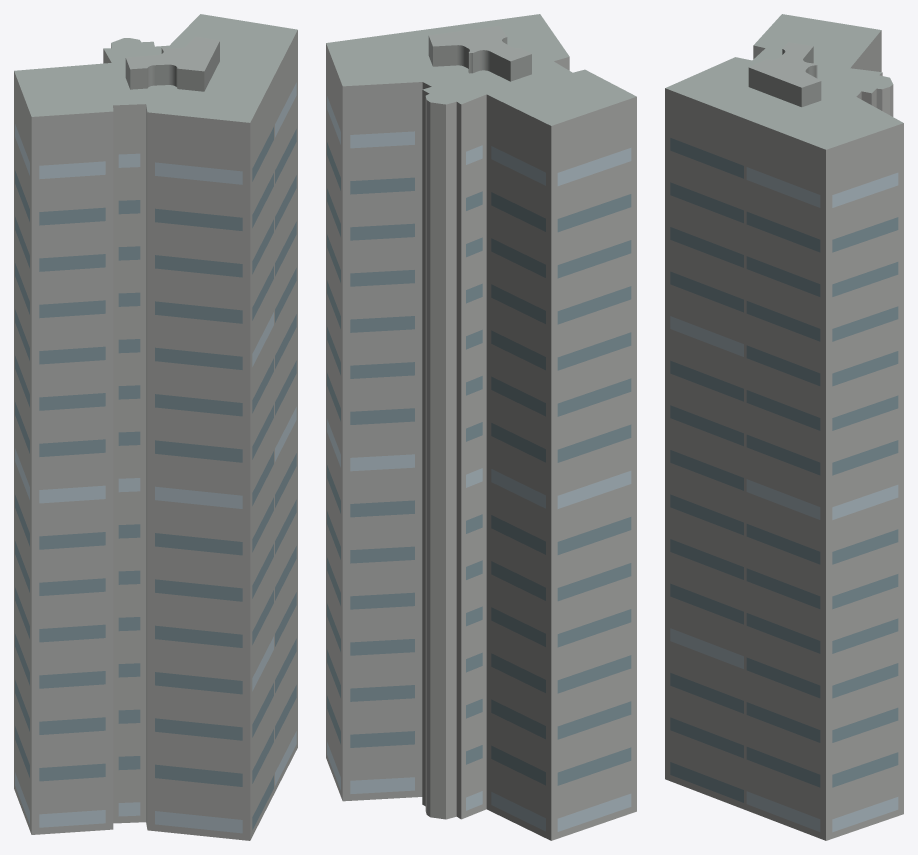
Rendered from fallback-jamsil-trizium-319.glb.
3 renders of one model, left to right at view 1: azimuth 30°, elevation 25°; view 2: azimuth 150°, elevation 25°; view 3: azimuth 270°, elevation 25°, orthographic. The views are drawn at different scales.
Visible parts, largest first — view 1: fallback-jamsil-trizium-319; view 2: fallback-jamsil-trizium-319; view 3: fallback-jamsil-trizium-319.
Boxes of the visible parts, bbox=[...] form: fallback-jamsil-trizium-319: bbox=[14, 14, 297, 840]; fallback-jamsil-trizium-319: bbox=[326, 14, 636, 840]; fallback-jamsil-trizium-319: bbox=[665, 14, 903, 840].
Size of the model in its own units: 35.67 by 87 by 26.49.
